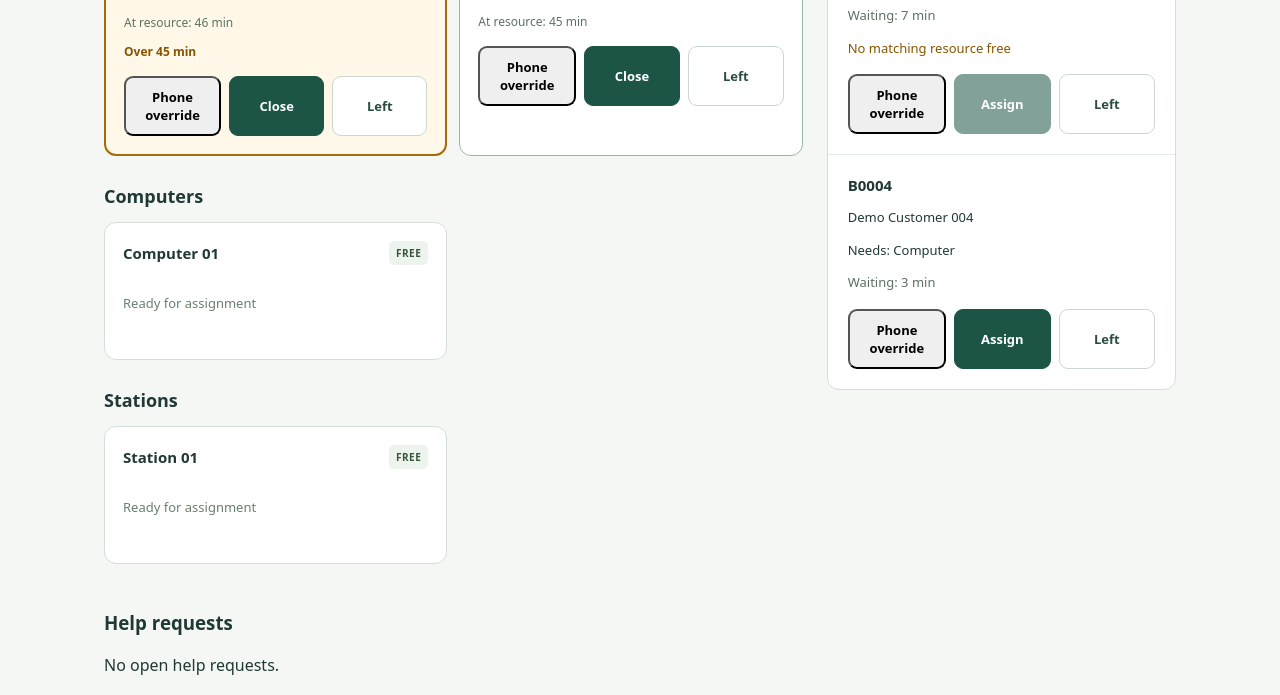
Test: assign removes the waiting entry and shows the new resource occupant
(page scrolled)
Click the button with aria-label "Assign B0004".
click(1002, 339)  # box [954,309,1051,369]
(page scrolled)
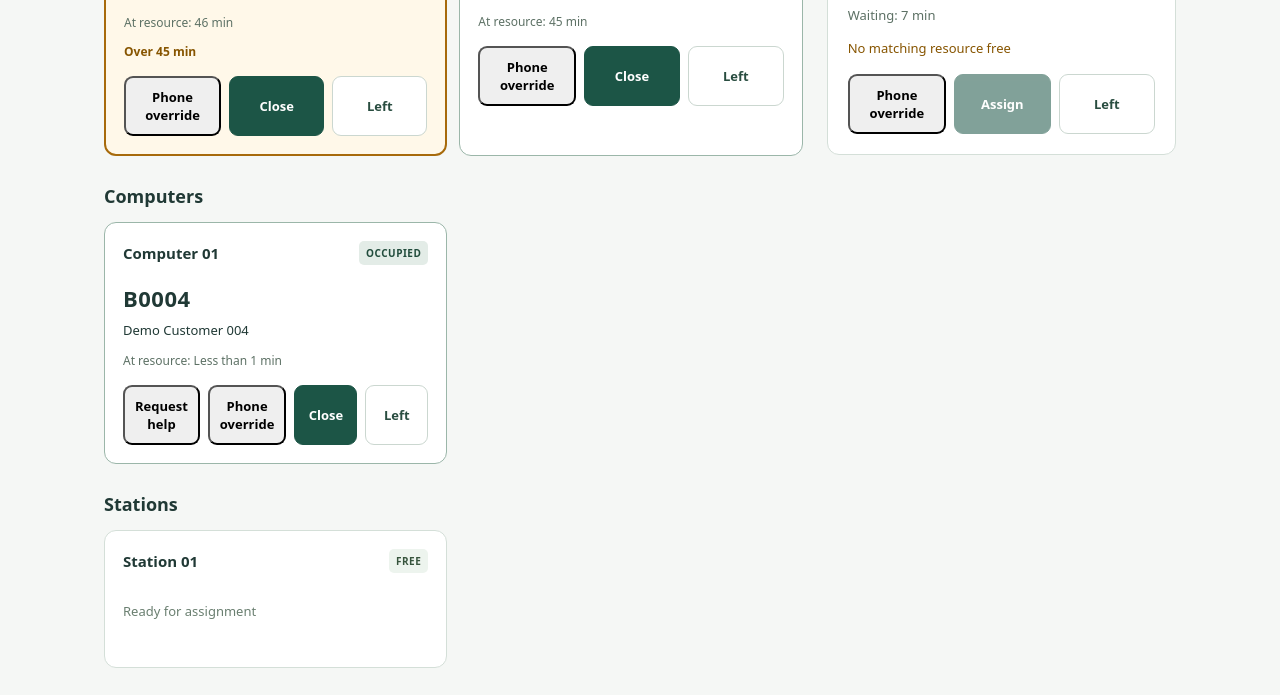
Expected: the button with aria-label "Close B0004" is shown, [294,385,357,445]
